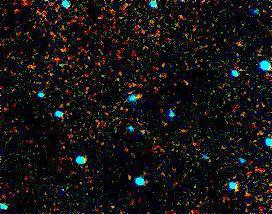star: (122, 83, 152, 113)
